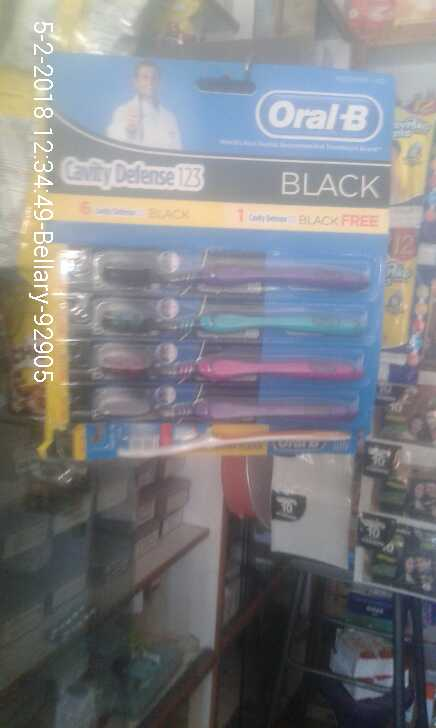oralb: (72, 230, 371, 296), (81, 332, 369, 390), (76, 290, 376, 344), (104, 416, 351, 457)
